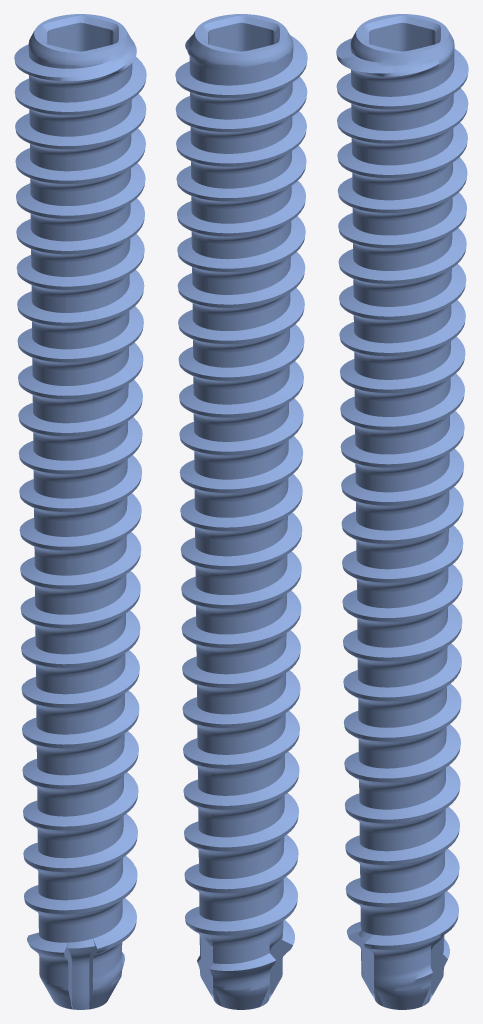
The model's file is os40_headless_4p5x40_lod0.glb.
The picture shows the model from 3 angles, left to right: view 1: azimuth 30°, elevation 25°; view 2: azimuth 210°, elevation 25°; view 3: azimuth 330°, elevation 25°; orthographic projection.
Parts seen in each view (by area): view 1: os40_headless_4p5x40; view 2: os40_headless_4p5x40; view 3: os40_headless_4p5x40.
Boxes of the visible parts, x1,y1,x2,y2 form: os40_headless_4p5x40: [14, 14, 146, 1009]; os40_headless_4p5x40: [175, 14, 307, 1009]; os40_headless_4p5x40: [336, 14, 468, 1009].
Size of the model in its own units: 0.00498 by 0.04 by 0.00498.
